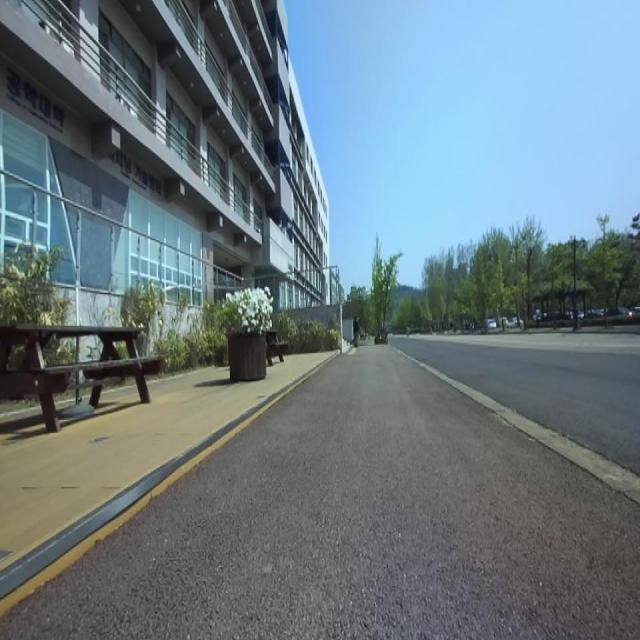sidewalk: (0, 340, 640, 639)
